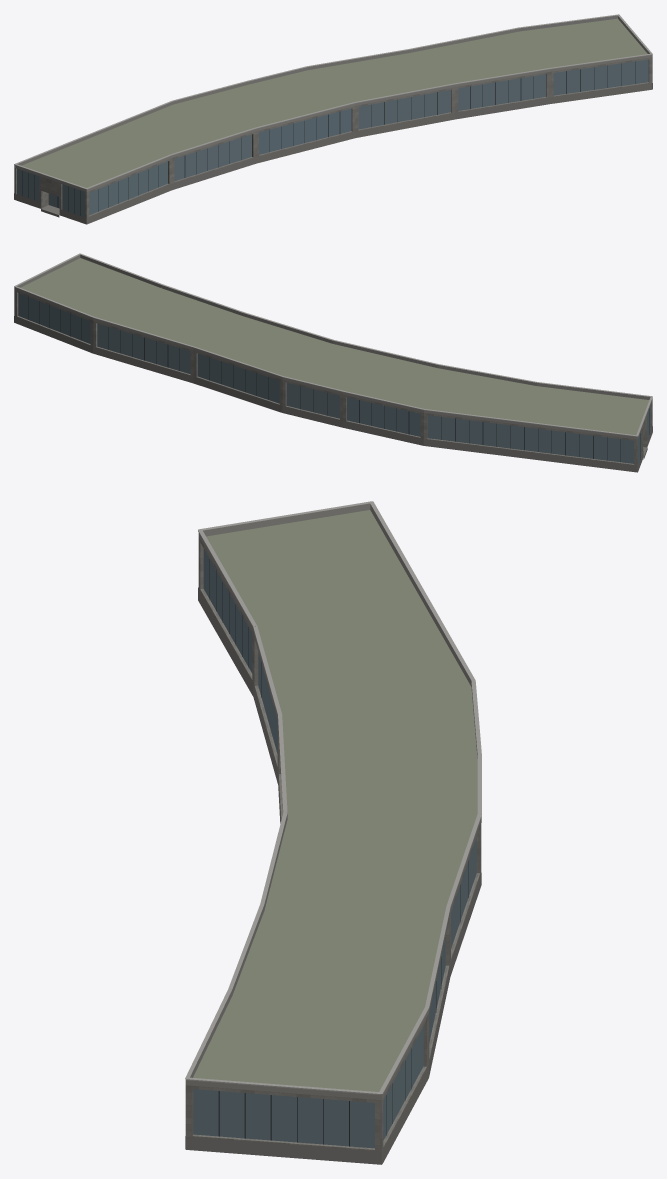
3 views of the same model, one above another, from view 1: azimuth 30°, elevation 25°; view 2: azimuth 150°, elevation 25°; view 3: azimuth 270°, elevation 25° (orthographic). The views are drawn at different scales.
Parts seen in each view (by area): view 1: rotc__roof, rotc__glass, rotc__base, rotc__parapet, rotc__wall, rotc__trim, rotc__frame; view 2: rotc__roof, rotc__glass, rotc__base, rotc__parapet, rotc__wall, rotc__trim, rotc__frame; view 3: rotc__roof, rotc__glass, rotc__trim, rotc__wall, rotc__base, rotc__parapet, rotc__frame.
Boxes of the visible parts, bbox=[...] form: rotc__roof: bbox=[22, 18, 647, 187]; rotc__glass: bbox=[17, 59, 648, 217]; rotc__base: bbox=[14, 83, 652, 224]; rotc__parapet: bbox=[14, 15, 652, 192]; rotc__wall: bbox=[14, 57, 652, 223]; rotc__trim: bbox=[14, 14, 652, 189]; rotc__frame: bbox=[22, 61, 635, 215]; rotc__roof: bbox=[21, 258, 649, 435]; rotc__glass: bbox=[18, 293, 650, 464]; rotc__base: bbox=[14, 316, 652, 472]; rotc__parapet: bbox=[14, 254, 652, 439]; rotc__wall: bbox=[14, 290, 652, 471]; rotc__trim: bbox=[14, 253, 652, 436]; rotc__frame: bbox=[28, 297, 649, 461]; rotc__roof: bbox=[193, 510, 477, 1091]; rotc__glass: bbox=[193, 549, 476, 1148]; rotc__trim: bbox=[185, 501, 481, 1095]; rotc__wall: bbox=[185, 537, 481, 1164]; rotc__base: bbox=[185, 587, 481, 1164]; rotc__parapet: bbox=[185, 503, 481, 1100]; rotc__frame: bbox=[209, 559, 468, 1146].
Size of the model in its own units: 119 by 7 by 25.1.
Materials: 8 (1 with a texture image).
